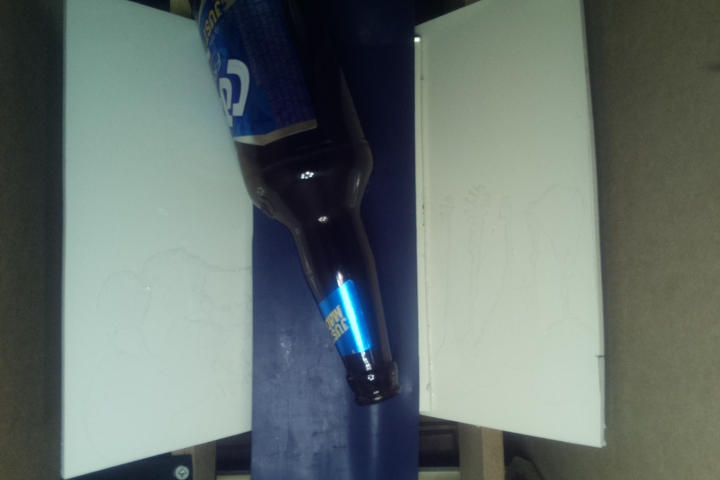makju: (187, 1, 408, 403)
